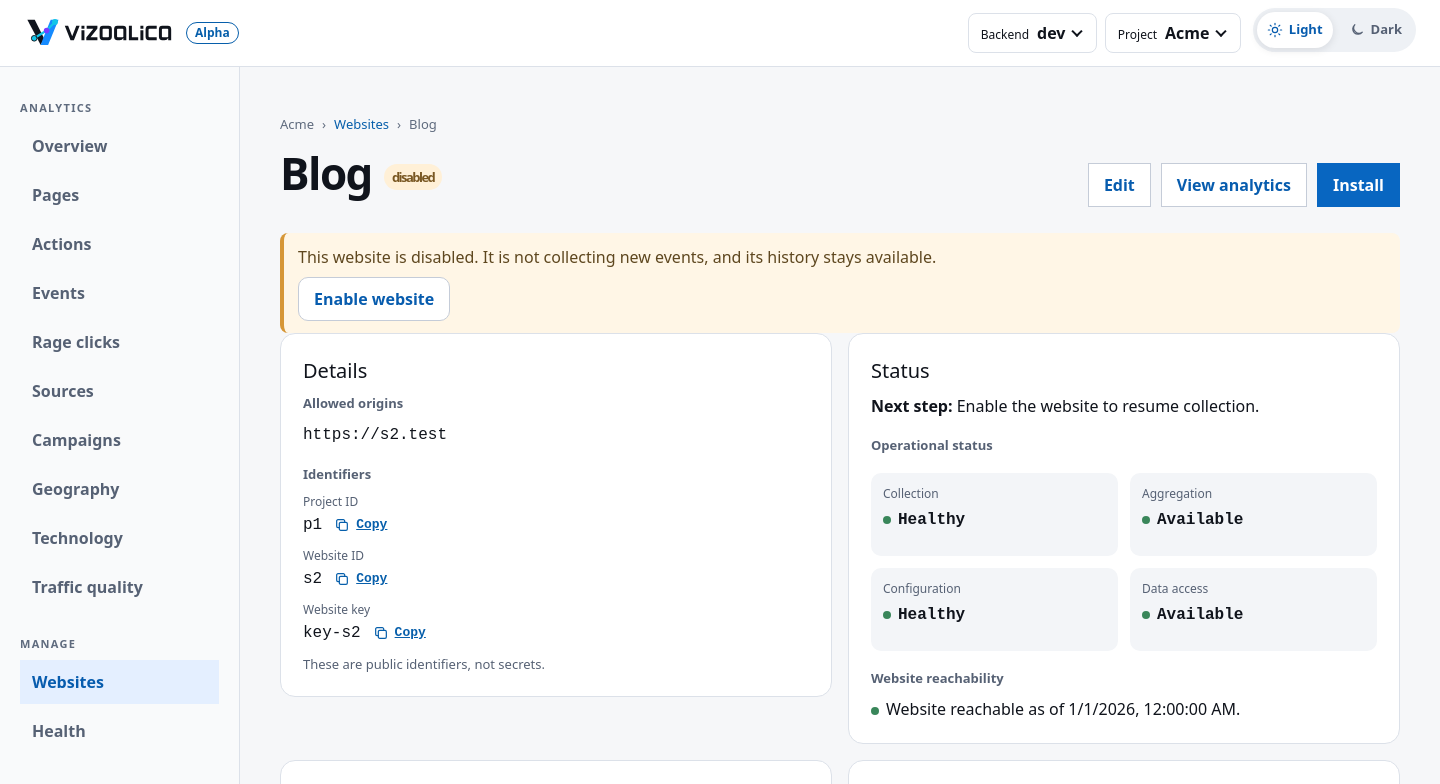
website page › offers Enable for a disabled website without a confirmation, and says it is disabled
Check: the text "This website is disabled" is shown, box [298,246,936,268]
Check: the button "Disable website…" is not shown
Click the button "Enable website": click(374, 299) [298,277,450,321]
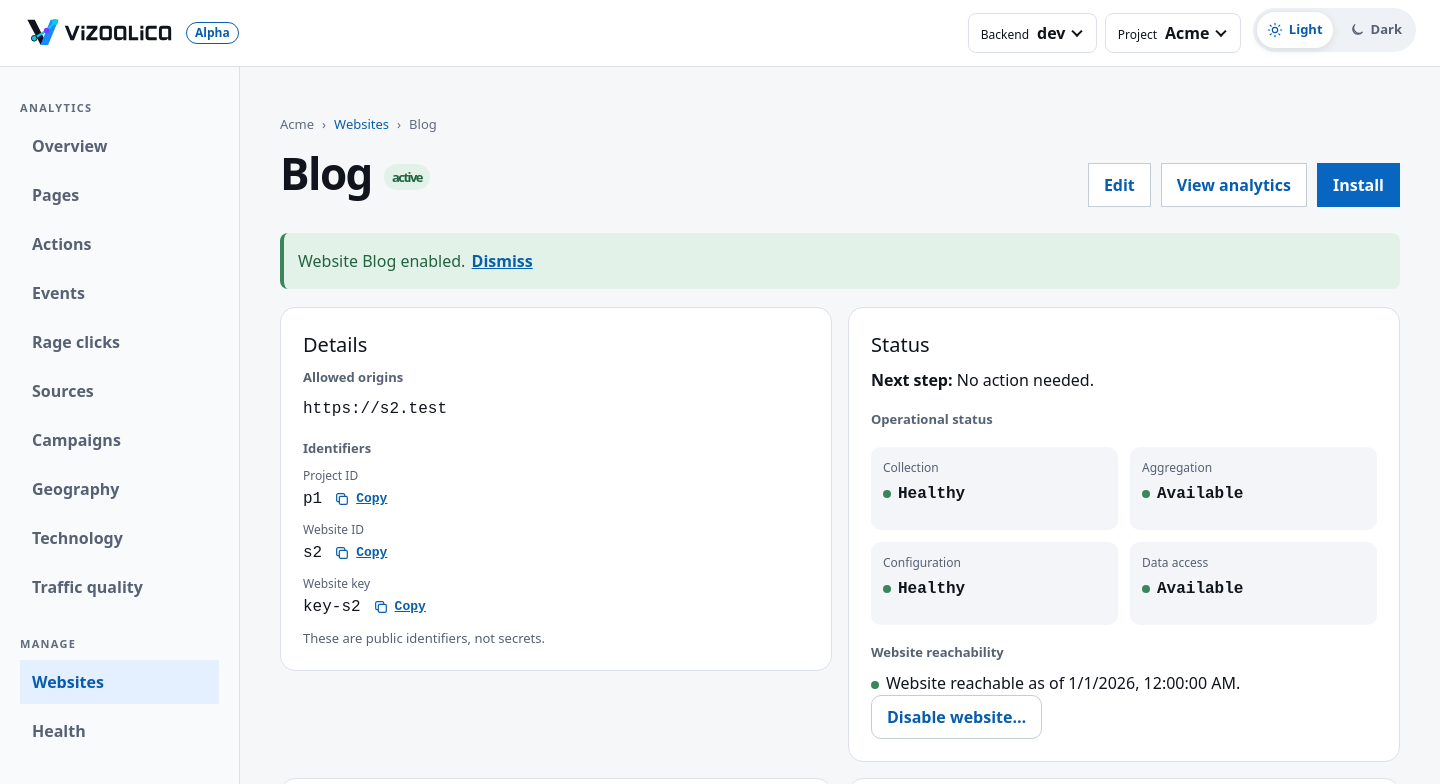
Check: the text "Website Blog enabled. Dismiss" is shown, box [280,233,1400,289]
Check: the text "This website is disabled" is gone
